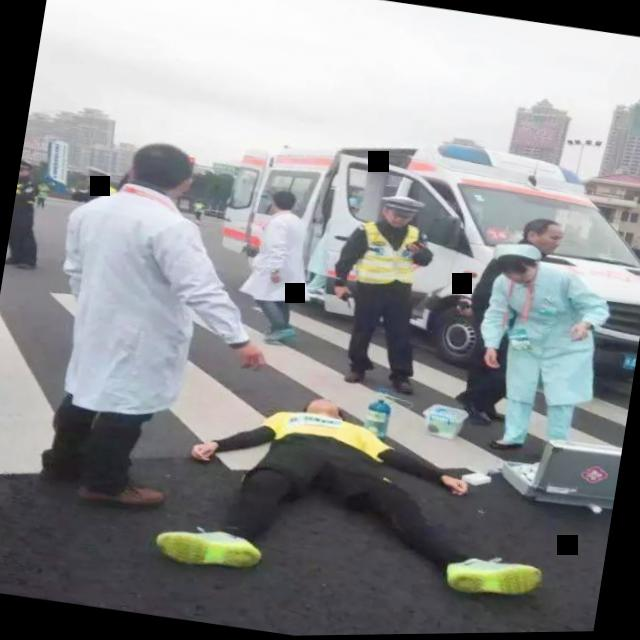Fall-Detected: (128, 350, 595, 639)
